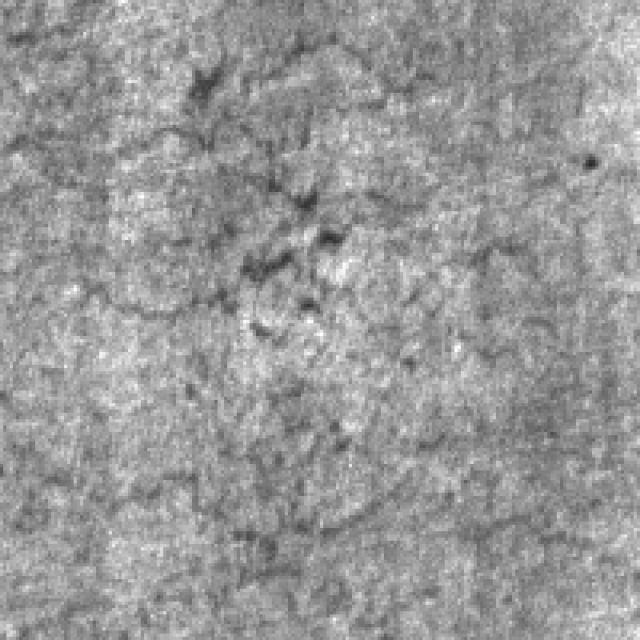crazing: (0, 26, 429, 336), (234, 378, 630, 540), (0, 461, 278, 637)
